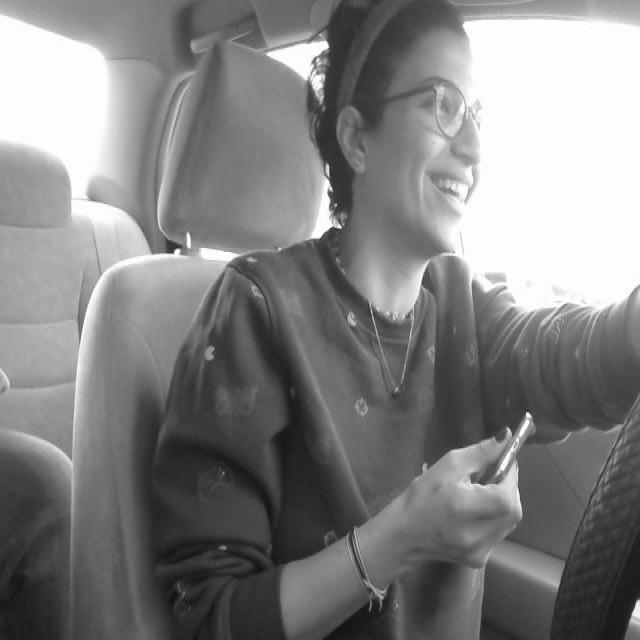mobile use: (466, 404, 546, 484)
